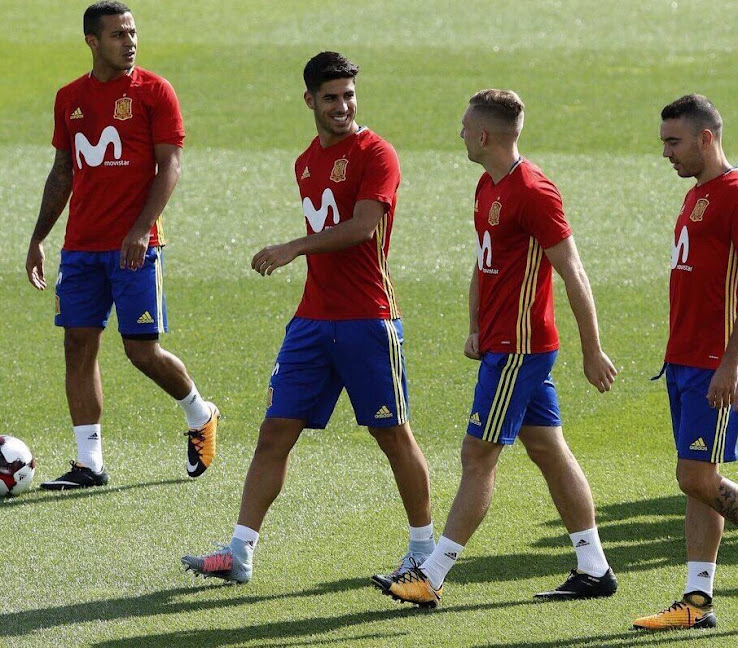football boots: (181, 402, 221, 478), (536, 567, 617, 601), (181, 549, 252, 587), (631, 600, 717, 630), (371, 573, 442, 609), (40, 466, 111, 489)
